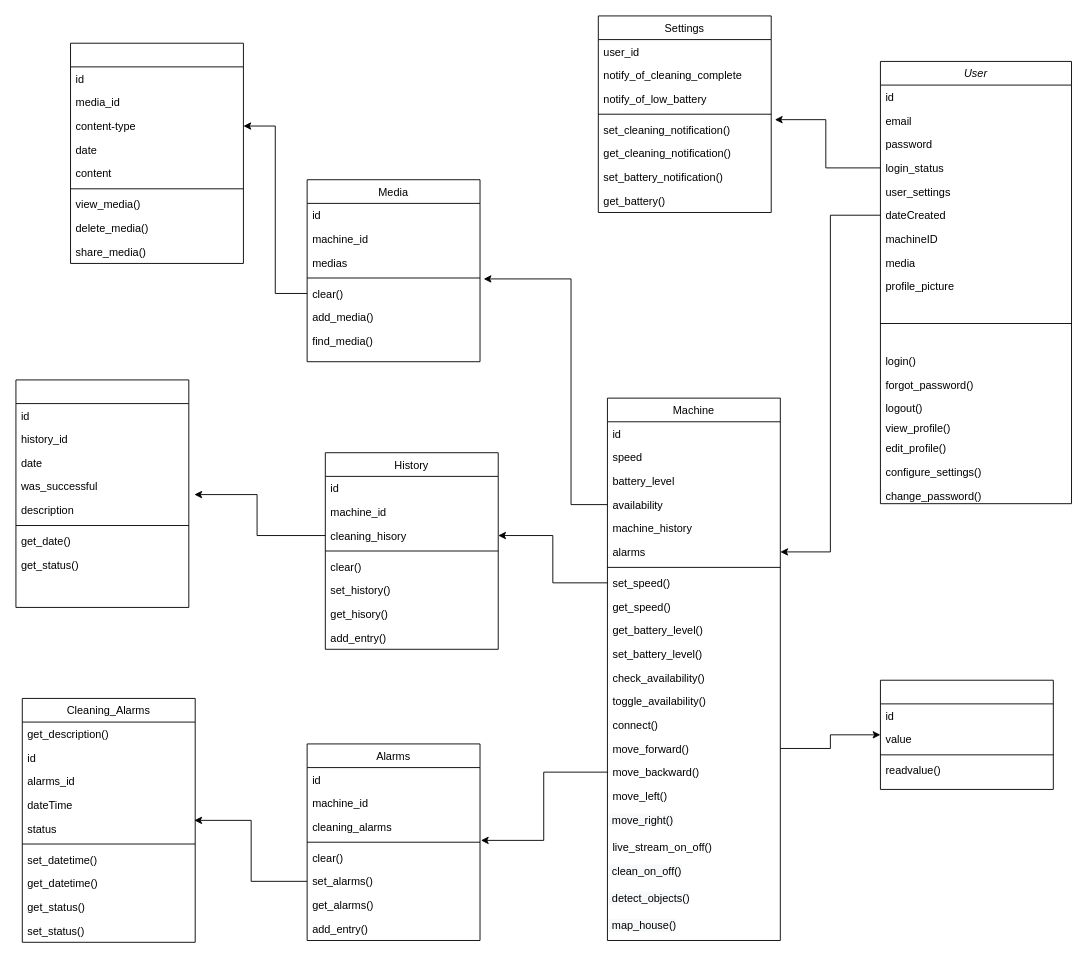
The diagram is 1087 pixels wide and 961 high, and some of its shapes have lost their labels. The box of each missing label's shape, as (x1, y1, x2, y2) in pixels:
Cleaning_History: (15, 379, 189, 607)
Sensor: (880, 679, 1053, 789)
User_Media: (70, 42, 243, 263)
